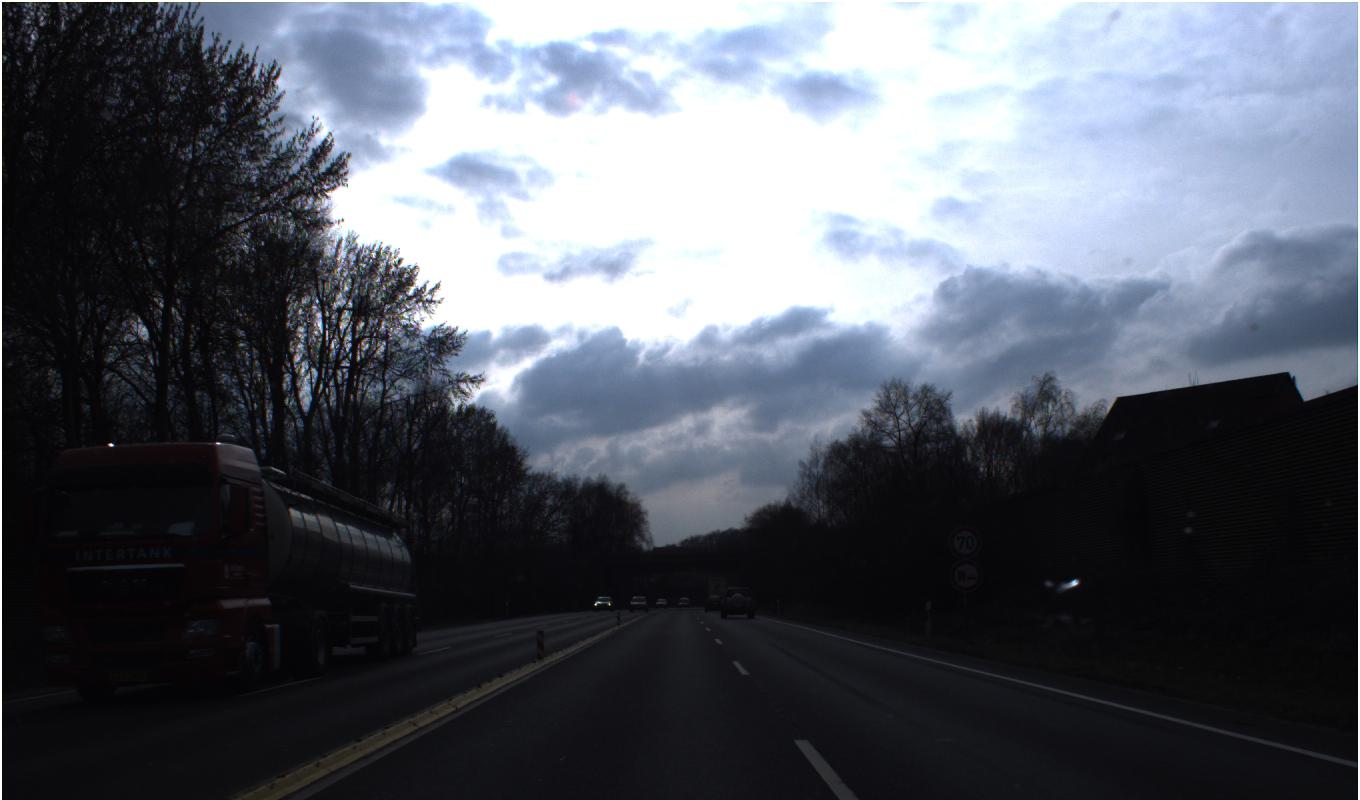prohibitory: (947, 524, 982, 559), (949, 559, 983, 593)
